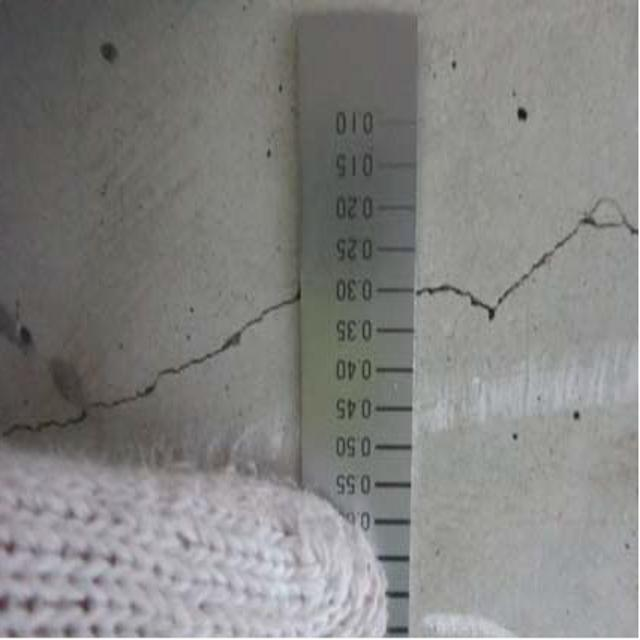crack: (0, 284, 301, 438), (418, 183, 636, 340)
